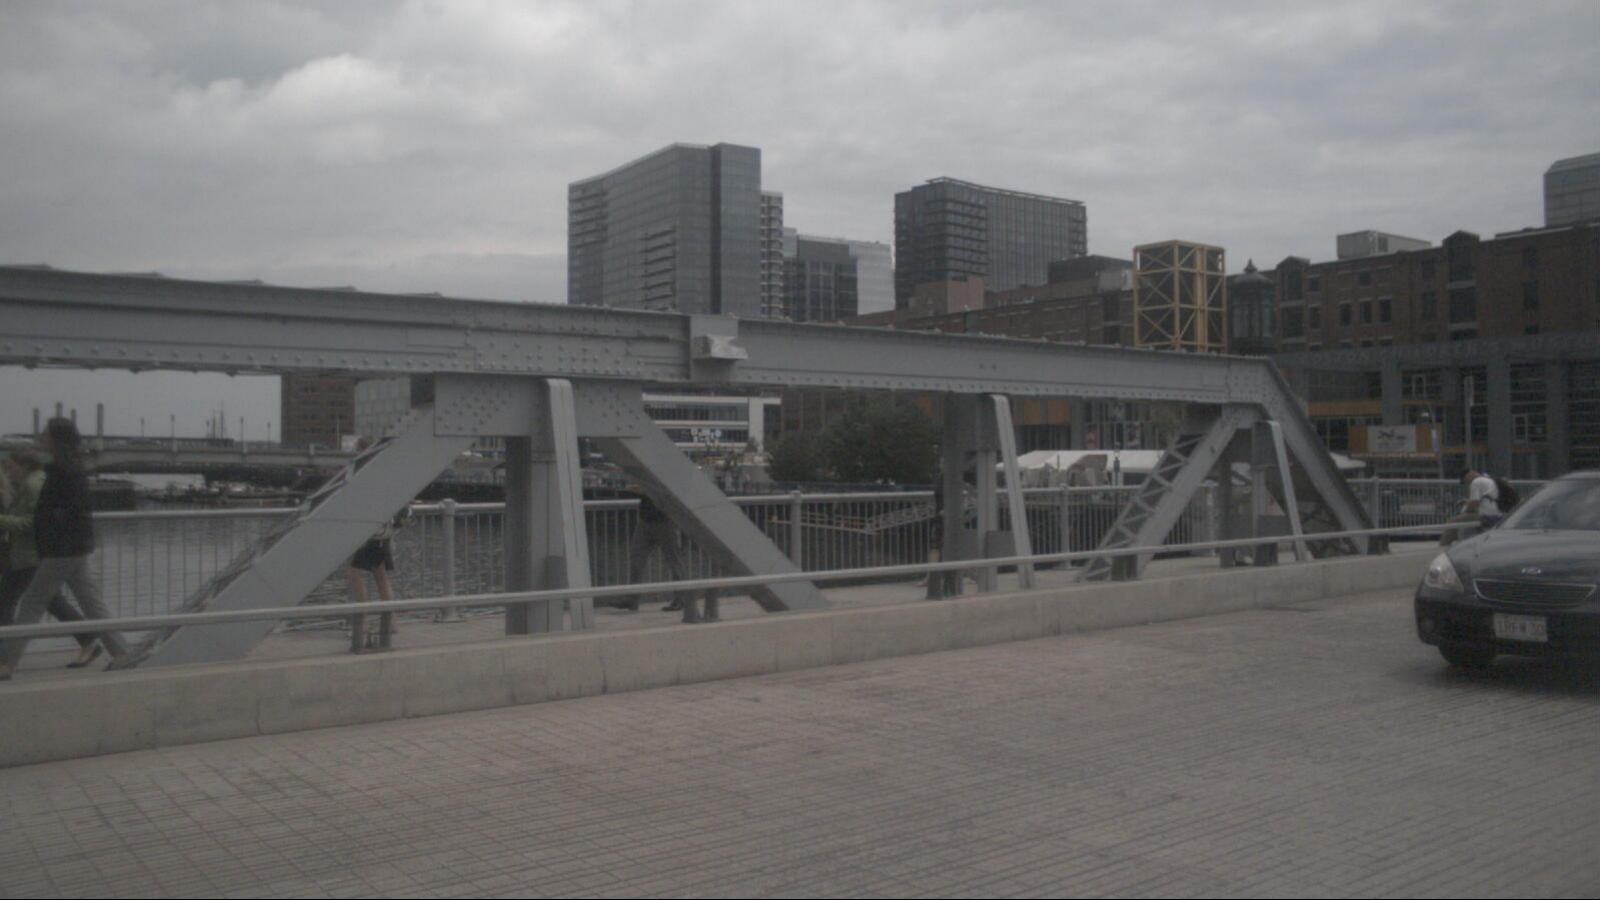human.pedestrian.adult-pedestrian.moving: (0, 416, 141, 683), (0, 445, 102, 677), (608, 436, 692, 613), (340, 432, 398, 656), (916, 456, 969, 588)
human.pedestrian.adult-pedestrian.sitting_lying_down: (1436, 468, 1518, 558)
